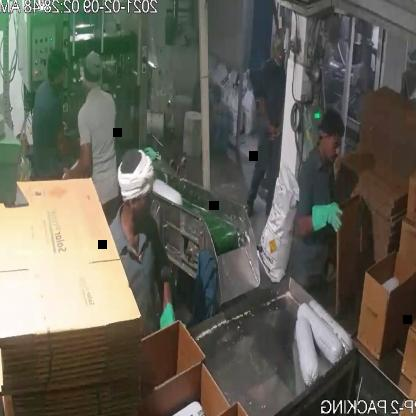glove: (298, 196, 348, 240)
no_glove: (61, 140, 93, 184), (253, 100, 277, 146)
